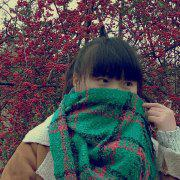OK: (87, 70, 139, 122)
